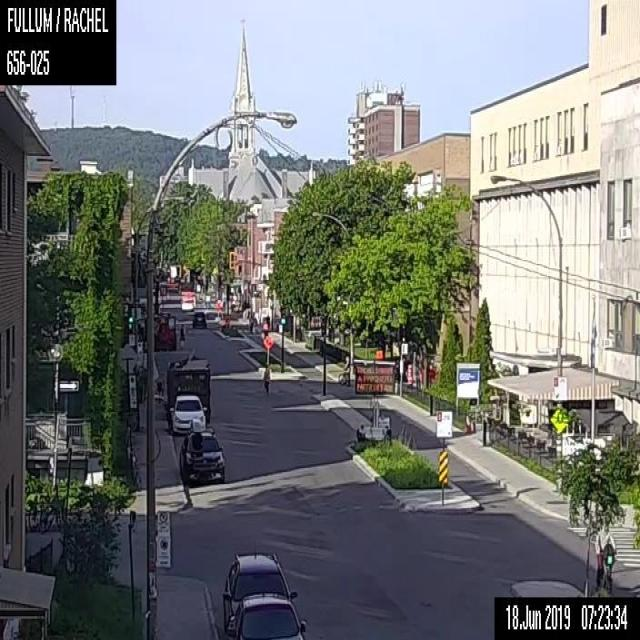construction: (355, 360, 394, 441), (263, 335, 273, 348), (407, 364, 411, 384), (376, 350, 381, 358)
cyclist: (594, 522, 615, 594), (338, 355, 350, 385)
pedestrian: (155, 372, 164, 402), (261, 364, 269, 394), (179, 323, 184, 342), (265, 313, 269, 330)
vehicle: (222, 552, 297, 631), (229, 591, 306, 639), (179, 416, 224, 484), (169, 394, 206, 432), (192, 310, 205, 328), (180, 298, 193, 310)
